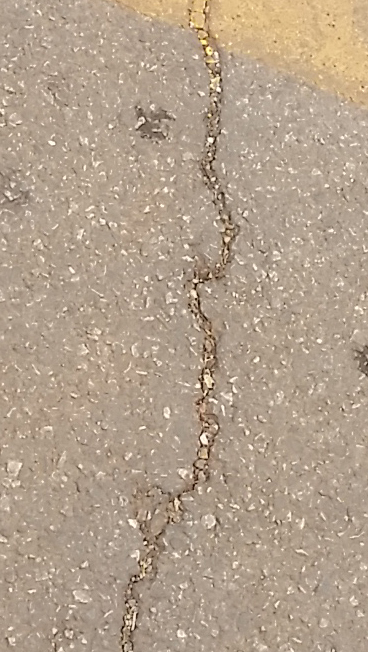A: (102, 1, 274, 648)
